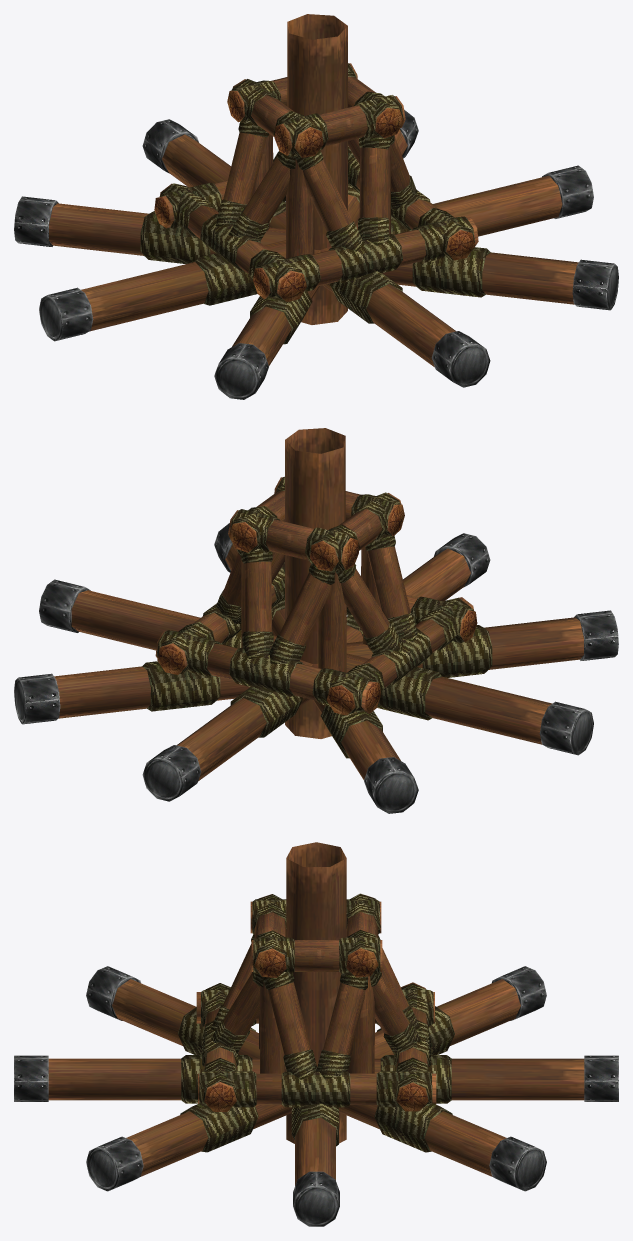
File: INST_SWORDLIGHT_WHEELOPAIN.fbx
3 views of the same model, one above another, from view 1: azimuth 30°, elevation 25°; view 2: azimuth 150°, elevation 25°; view 3: azimuth 270°, elevation 25° (orthographic).
Visible parts, largest first — view 1: INST_SWORDLIGHT_WHEELOPAIN; view 2: INST_SWORDLIGHT_WHEELOPAIN; view 3: INST_SWORDLIGHT_WHEELOPAIN.
Boxes of the visible parts, box(x1,y1,x2,y2) form: INST_SWORDLIGHT_WHEELOPAIN: box(14, 14, 618, 399); INST_SWORDLIGHT_WHEELOPAIN: box(14, 428, 618, 813); INST_SWORDLIGHT_WHEELOPAIN: box(14, 842, 618, 1226).
Bounding box in the file's own units: 90162 × 46269 × 90162.
Materials: 5 (5 with a texture image).
